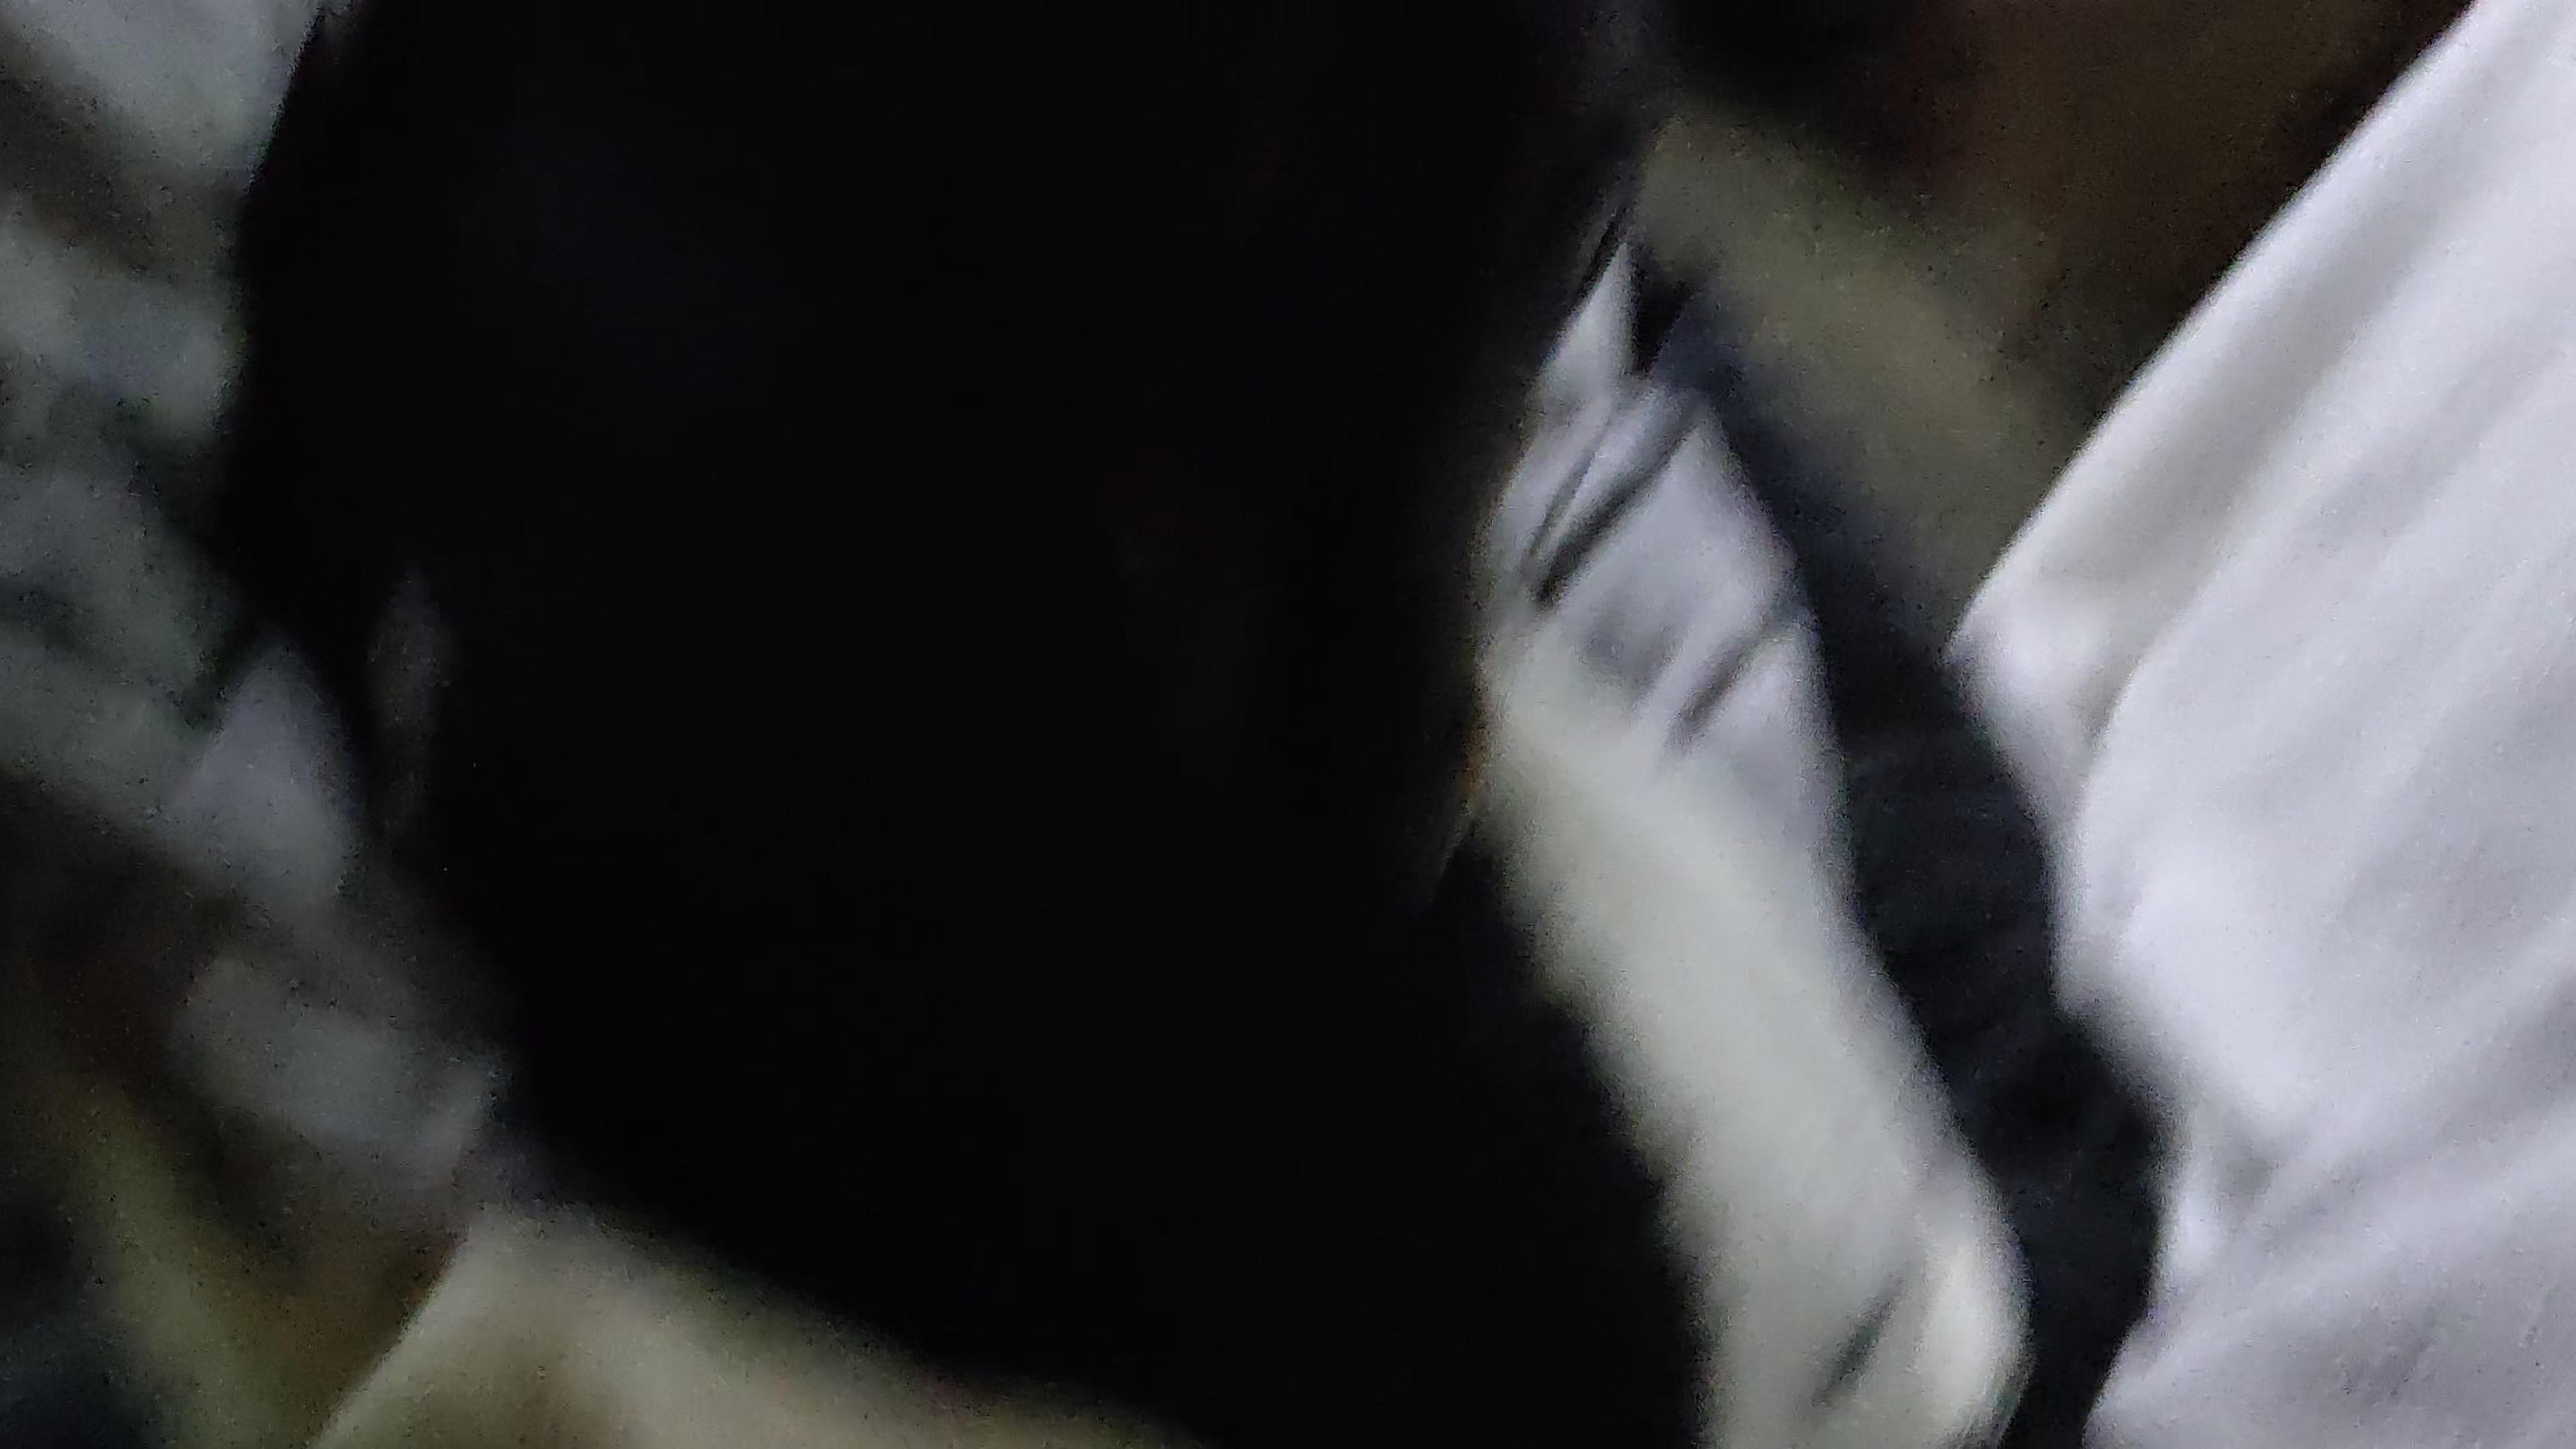Dog: (205, 0, 2066, 1449)
